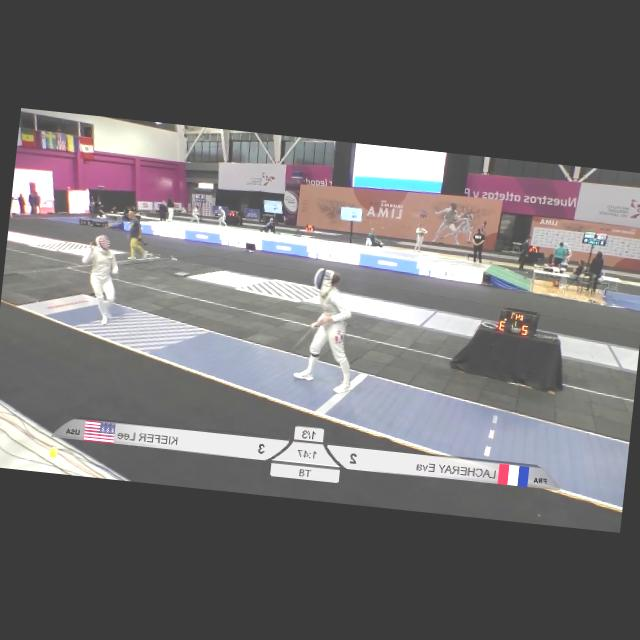blade: (286, 320, 316, 358), (110, 270, 124, 291)
